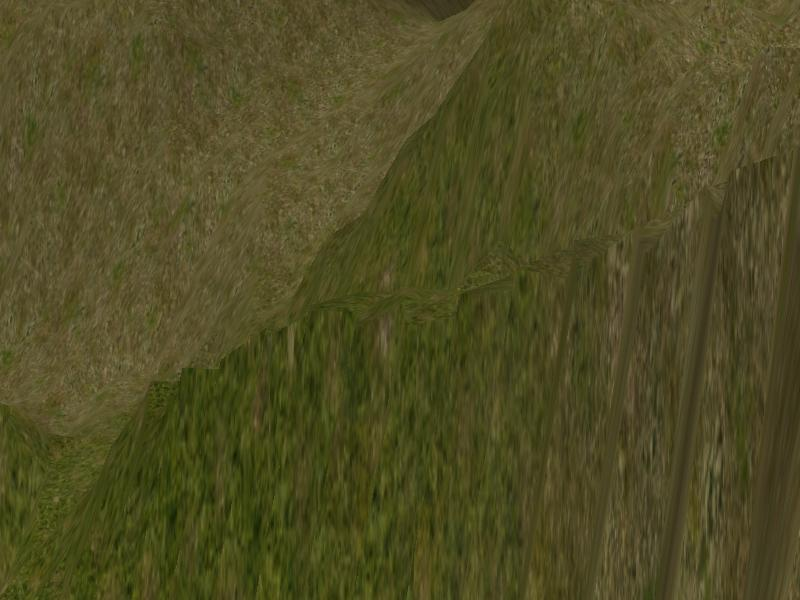background: (2, 2, 800, 600)
